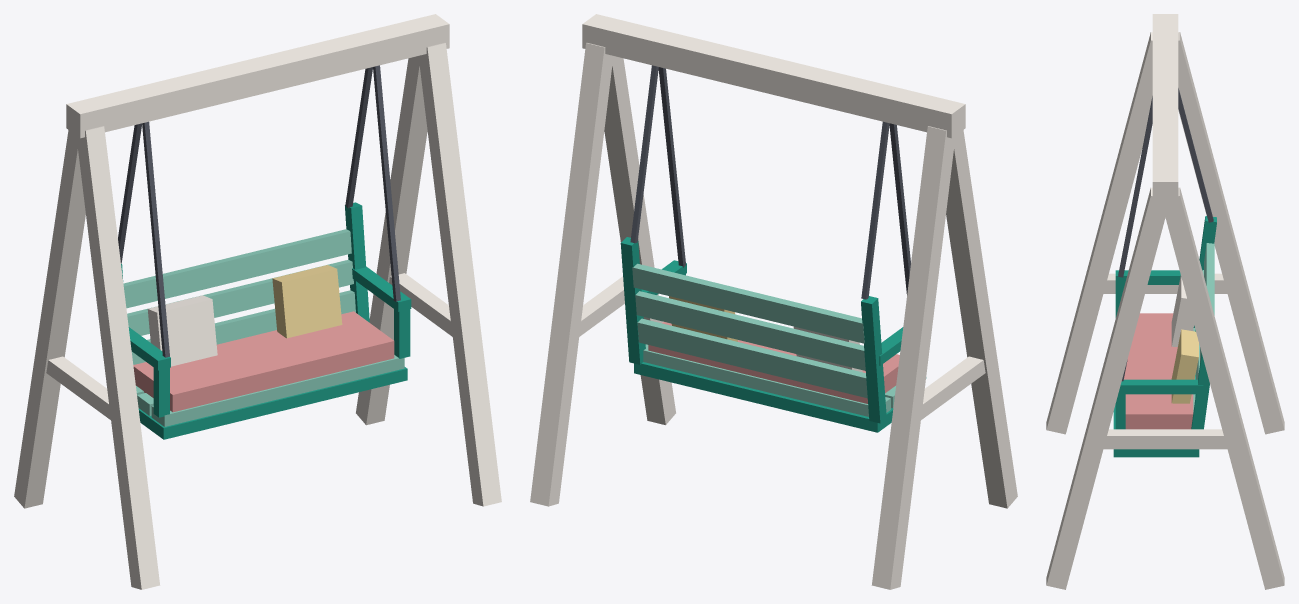
The model's file is CatCafe_Decor_PorchSwing.glb.
3 renders of one model, left to right at view 1: azimuth 30°, elevation 25°; view 2: azimuth 150°, elevation 25°; view 3: azimuth 270°, elevation 25°, orthographic. The views are drawn at different scales.
Visible parts, largest first — view 1: CatCafe_Decor_PorchSwing; view 2: CatCafe_Decor_PorchSwing; view 3: CatCafe_Decor_PorchSwing.
Part boxes in pixels (box(x1,y1,x2,y2)): CatCafe_Decor_PorchSwing: box(14, 14, 501, 589); CatCafe_Decor_PorchSwing: box(530, 14, 1017, 589); CatCafe_Decor_PorchSwing: box(1046, 14, 1284, 589).
Size of the model in its own units: 4 by 4.55 by 2.39.
Materials: 1 (1 with a texture image).
